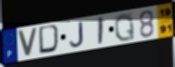8: (139, 9, 155, 38)
D: (38, 23, 62, 55)
I: (97, 16, 105, 47)
J: (69, 21, 85, 49)
Q: (114, 12, 136, 43)
V: (16, 27, 39, 58)
